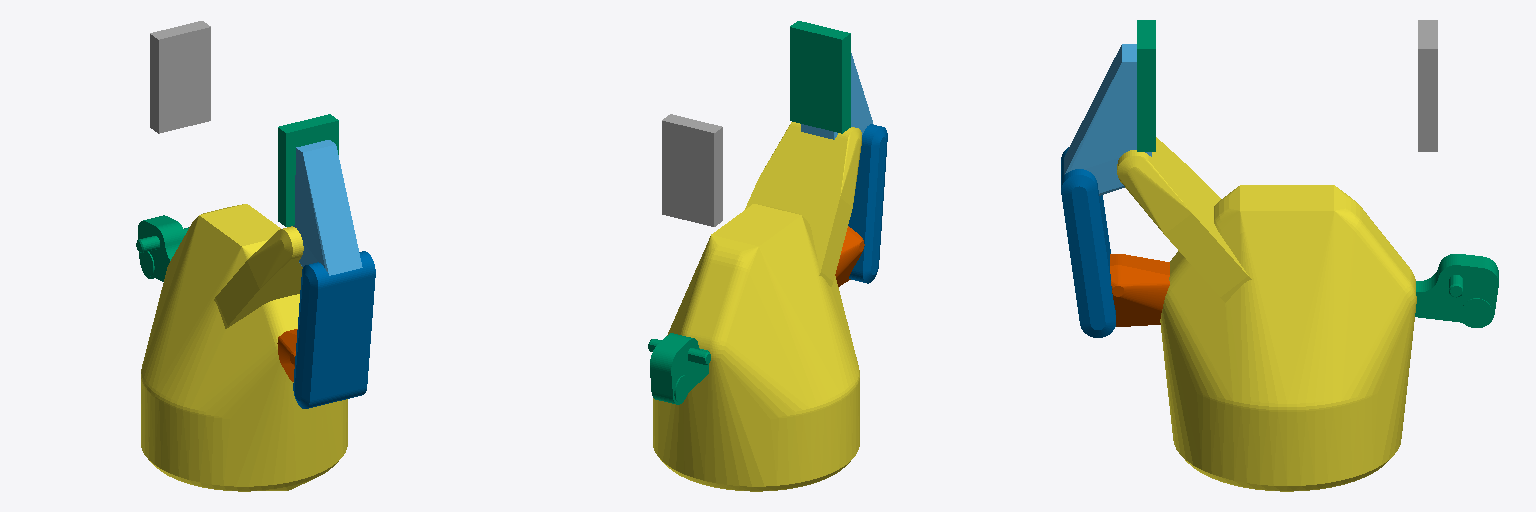
robot.urdf — Robotiq_2F_85:
<?xml version="1.0" encoding="UTF-8"?>
<robot name="Robotiq_2F_85">
  <joint name="finger_joint" type="revolute">
    <origin xyz="0. -0.0306011 0.054904 " rpy="0. 0. -3.1415925"/>
    <parent link="robotiq_arg2f_base_link"/>
    <child link="left_outer_knuckle"/>
    <axis xyz="1. 0. 0."/>
    <limit lower="0." upper="0.7999999" effort="60000." velocity="2."/>
  </joint>
  <joint name="left_inner_finger_joint" type="revolute">
    <origin xyz="0. 0.0061 0.0471" rpy="0. 0. 0."/>
    <parent link="left_outer_finger"/>
    <child link="left_inner_finger"/>
    <axis xyz="1. 0. 0."/>
    <limit lower="0." upper="0.8757" effort="60000." velocity="2."/>
  </joint>
  <joint name="left_inner_finger_pad_joint" type="fixed">
    <origin xyz="0. -0.0220203 0.03242 " rpy="0. -1.5707963 0. "/>
    <parent link="left_inner_finger"/>
    <child link="left_inner_finger_pad"/>
  </joint>
  <joint name="left_inner_knuckle_joint" type="revolute">
    <origin xyz="0. -0.0127 0.06142" rpy="0. 0. -3.1415925"/>
    <parent link="robotiq_arg2f_base_link"/>
    <child link="left_inner_knuckle"/>
    <axis xyz="1. 0. 0."/>
    <limit lower="0." upper="0.8757" effort="60000." velocity="2."/>
  </joint>
  <joint name="left_outer_finger_joint" type="fixed">
    <origin xyz="0. 0.0315 -0.0041" rpy="0. 0. 0."/>
    <parent link="left_outer_knuckle"/>
    <child link="left_outer_finger"/>
  </joint>
  <joint name="right_inner_finger_joint" type="revolute">
    <origin xyz="0. 0.0061 0.0471" rpy="0. 0. 0."/>
    <parent link="right_outer_finger"/>
    <child link="right_inner_finger"/>
    <axis xyz="1. 0. 0."/>
    <limit lower="0." upper="0.8757" effort="60000." velocity="2."/>
  </joint>
  <joint name="right_inner_finger_pad_joint" type="fixed">
    <origin xyz="0. -0.0220203 0.03242 " rpy="0. -1.5707963 0. "/>
    <parent link="right_inner_finger"/>
    <child link="right_inner_finger_pad"/>
  </joint>
  <joint name="right_inner_knuckle_joint" type="revolute">
    <origin xyz="0. 0.0127 0.06142" rpy="0. 0. 0."/>
    <parent link="robotiq_arg2f_base_link"/>
    <child link="right_inner_knuckle"/>
    <axis xyz="1. 0. 0."/>
    <limit lower="0." upper="0.8757" effort="60000." velocity="2."/>
  </joint>
  <joint name="right_outer_finger_joint" type="fixed">
    <origin xyz="0. 0.0315 -0.0041" rpy="0. 0. 0."/>
    <parent link="right_outer_knuckle"/>
    <child link="right_outer_finger"/>
  </joint>
  <joint name="right_outer_knuckle_joint" type="revolute">
    <origin xyz="0. 0.0306011 0.054904 " rpy="0. 0. 0."/>
    <parent link="robotiq_arg2f_base_link"/>
    <child link="right_outer_knuckle"/>
    <axis xyz="1. 0. 0."/>
    <limit lower="0." upper="0.81" effort="60000." velocity="2."/>
  </joint>
  <joint name="root_joint" type="fixed">
    <origin xyz="0. 0. 0." rpy="0. 0. 0."/>
    <parent link="Root"/>
    <child link="robotiq_arg2f_base_link"/>
  </joint>
  <link name="Root"/>
  <link name="left_inner_finger">
    <visual>
      <origin xyz="0. 0. 0." rpy="0. 0. 0."/>
      <geometry>
        <mesh filename="meshes/left_inner_finger_visuals_mesh_0.obj" scale="0.001 0.001 0.001"/>
      </geometry>
    </visual>
    <visual>
      <origin xyz="0. 0. 0." rpy="0. 0. 0."/>
      <geometry>
        <mesh filename="meshes/left_inner_finger_collisions_mesh_0.obj" scale="0.001 0.001 0.001"/>
      </geometry>
    </visual>
    <collision>
      <origin xyz="0. 0. 0." rpy="0. 0. 0."/>
      <geometry>
        <mesh filename="meshes/left_inner_finger_collisions_mesh_0.obj" scale="0.001 0.001 0.001"/>
      </geometry>
    </collision>
  </link>
  <link name="left_inner_finger_pad">
    <visual>
      <origin xyz="0. 0. 0." rpy="0. 1.5707963 0. "/>
      <geometry>
        <box size="0.022 0.00635 0.0375 "/>
      </geometry>
    </visual>
    <collision>
      <origin xyz="0. 0. 0." rpy="0. 1.5707963 0. "/>
      <geometry>
        <box size="0.022 0.00635 0.0375 "/>
      </geometry>
    </collision>
  </link>
  <link name="left_inner_knuckle">
    <visual>
      <origin xyz="0. 0. 0." rpy="0. 0. 0."/>
      <geometry>
        <mesh filename="meshes/left_inner_knuckle_visuals_mesh_0.obj" scale="0.001 0.001 0.001"/>
      </geometry>
    </visual>
    <visual>
      <origin xyz="0. 0. 0." rpy="0. 0. 0."/>
      <geometry>
        <mesh filename="meshes/left_inner_knuckle_collisions_mesh_0.obj" scale="0.001 0.001 0.001"/>
      </geometry>
    </visual>
    <collision>
      <origin xyz="0. 0. 0." rpy="0. 0. 0."/>
      <geometry>
        <mesh filename="meshes/left_inner_knuckle_collisions_mesh_0.obj" scale="0.001 0.001 0.001"/>
      </geometry>
    </collision>
  </link>
  <link name="left_outer_finger">
    <visual>
      <origin xyz="0. 0. 0." rpy="0. 0. 0."/>
      <geometry>
        <mesh filename="meshes/left_outer_finger_visuals_mesh_0.obj" scale="0.001 0.001 0.001"/>
      </geometry>
    </visual>
    <visual>
      <origin xyz="0. 0. 0." rpy="0. 0. 0."/>
      <geometry>
        <mesh filename="meshes/left_outer_finger_collisions_mesh_0.obj" scale="0.001 0.001 0.001"/>
      </geometry>
    </visual>
    <collision>
      <origin xyz="0. 0. 0." rpy="0. 0. 0."/>
      <geometry>
        <mesh filename="meshes/left_outer_finger_collisions_mesh_0.obj" scale="0.001 0.001 0.001"/>
      </geometry>
    </collision>
  </link>
  <link name="left_outer_knuckle">
    <visual>
      <origin xyz="0. 0. 0." rpy="0. 0. 0."/>
      <geometry>
        <mesh filename="meshes/left_outer_knuckle_visuals_mesh_0.obj" scale="0.001 0.001 0.001"/>
      </geometry>
    </visual>
    <visual>
      <origin xyz="0. 0. 0." rpy="0. 0. 0."/>
      <geometry>
        <mesh filename="meshes/left_outer_knuckle_collisions_mesh_0.obj" scale="0.001 0.001 0.001"/>
      </geometry>
    </visual>
    <collision>
      <origin xyz="0. 0. 0." rpy="0. 0. 0."/>
      <geometry>
        <mesh filename="meshes/left_outer_knuckle_collisions_mesh_0.obj" scale="0.001 0.001 0.001"/>
      </geometry>
    </collision>
  </link>
  <link name="right_inner_finger">
    <visual>
      <origin xyz="0. 0. 0." rpy="0. 0. 0."/>
      <geometry>
        <mesh filename="meshes/right_inner_finger_visuals_mesh_0.obj" scale="0.001 0.001 0.001"/>
      </geometry>
    </visual>
    <visual>
      <origin xyz="0. 0. 0." rpy="0. 0. 0."/>
      <geometry>
        <mesh filename="meshes/right_inner_finger_collisions_mesh_0.obj" scale="0.001 0.001 0.001"/>
      </geometry>
    </visual>
    <collision>
      <origin xyz="0. 0. 0." rpy="0. 0. 0."/>
      <geometry>
        <mesh filename="meshes/right_inner_finger_collisions_mesh_0.obj" scale="0.001 0.001 0.001"/>
      </geometry>
    </collision>
  </link>
  <link name="right_inner_finger_pad">
    <visual>
      <origin xyz="0. 0. 0." rpy="0. 1.5707963 0. "/>
      <geometry>
        <box size="0.022 0.00635 0.0375 "/>
      </geometry>
    </visual>
    <collision>
      <origin xyz="0. 0. 0." rpy="0. 1.5707963 0. "/>
      <geometry>
        <box size="0.022 0.00635 0.0375 "/>
      </geometry>
    </collision>
  </link>
  <link name="right_inner_knuckle">
    <visual>
      <origin xyz="0. 0. 0." rpy="0. 0. 0."/>
      <geometry>
        <mesh filename="meshes/right_inner_knuckle_visuals_mesh_0.obj" scale="0.001 0.001 0.001"/>
      </geometry>
    </visual>
    <visual>
      <origin xyz="0. 0. 0." rpy="0. 0. 0."/>
      <geometry>
        <mesh filename="meshes/right_inner_knuckle_collisions_mesh_0.obj" scale="0.001 0.001 0.001"/>
      </geometry>
    </visual>
    <collision>
      <origin xyz="0. 0. 0." rpy="0. 0. 0."/>
      <geometry>
        <mesh filename="meshes/right_inner_knuckle_collisions_mesh_0.obj" scale="0.001 0.001 0.001"/>
      </geometry>
    </collision>
  </link>
  <link name="right_outer_finger">
    <visual>
      <origin xyz="0. 0. 0." rpy="0. 0. 0."/>
      <geometry>
        <mesh filename="meshes/right_outer_finger_visuals_mesh_0.obj" scale="0.001 0.001 0.001"/>
      </geometry>
    </visual>
    <visual>
      <origin xyz="0. 0. 0." rpy="0. 0. 0."/>
      <geometry>
        <mesh filename="meshes/right_outer_finger_collisions_mesh_0.obj" scale="0.001 0.001 0.001"/>
      </geometry>
    </visual>
    <collision>
      <origin xyz="0. 0. 0." rpy="0. 0. 0."/>
      <geometry>
        <mesh filename="meshes/right_outer_finger_collisions_mesh_0.obj" scale="0.001 0.001 0.001"/>
      </geometry>
    </collision>
  </link>
  <link name="right_outer_knuckle">
    <visual>
      <origin xyz="0. 0. 0." rpy="0. 0. 0."/>
      <geometry>
        <mesh filename="meshes/right_outer_knuckle_visuals_mesh_0.obj" scale="0.001 0.001 0.001"/>
      </geometry>
    </visual>
    <visual>
      <origin xyz="0. 0. 0." rpy="0. 0. 0."/>
      <geometry>
        <mesh filename="meshes/right_outer_knuckle_collisions_mesh_0.obj" scale="0.001 0.001 0.001"/>
      </geometry>
    </visual>
    <collision>
      <origin xyz="0. 0. 0." rpy="0. 0. 0."/>
      <geometry>
        <mesh filename="meshes/right_outer_knuckle_collisions_mesh_0.obj" scale="0.001 0.001 0.001"/>
      </geometry>
    </collision>
  </link>
  <link name="robotiq_arg2f_base_link">
    <inertial>
      <origin xyz="0. 0. 0." rpy="0. 0. 0."/>
      <mass value="0.22652"/>
      <inertia ixx="0." ixy="0." ixz="0." iyy="0." iyz="0." izz="0."/>
    </inertial>
    <visual>
      <origin xyz="0. 0. 0." rpy="0. 0. 0."/>
      <geometry>
        <mesh filename="meshes/robotiq_arg2f_base_link_visuals_mesh_0.obj" scale="0.001 0.001 0.001"/>
      </geometry>
    </visual>
    <visual>
      <origin xyz="0. 0. 0." rpy="0. 0. 0."/>
      <geometry>
        <mesh filename="meshes/robotiq_arg2f_base_link_collisions_mesh_0.obj" scale="1. 1. 1."/>
      </geometry>
    </visual>
    <collision>
      <origin xyz="0. 0. 0." rpy="0. 0. 0."/>
      <geometry>
        <mesh filename="meshes/robotiq_arg2f_base_link_collisions_mesh_0.obj" scale="1. 1. 1."/>
      </geometry>
    </collision>
  </link>
</robot>

--- Facts derived from the render (not from the file) ---
3 views of the same robot in one strip: view 1: azimuth 30°, elevation 25°; view 2: azimuth 150°, elevation 25°; view 3: azimuth 270°, elevation 25° (orthographic).
Model Robotiq_2F_85 with 12 links and 11 joints (6 revolute, 5 fixed), rooted at Root, posed every joint at zero.
Visible links, largest first — view 1: robotiq_arg2f_base_link, left_outer_finger, left_inner_finger, right_inner_finger_pad, left_inner_knuckle, left_inner_finger_pad, right_outer_knuckle, left_outer_knuckle; view 2: robotiq_arg2f_base_link, left_inner_knuckle, right_inner_finger_pad, left_inner_finger_pad, left_outer_finger, right_outer_knuckle, left_inner_finger, left_outer_knuckle; view 3: robotiq_arg2f_base_link, left_inner_knuckle, left_outer_finger, left_inner_finger, right_outer_knuckle, left_outer_knuckle, right_inner_finger_pad, left_inner_finger_pad.
Link boxes in pixels (left/top/right/bottom): robotiq_arg2f_base_link: left=141, top=204, right=347, bottom=491; left_outer_finger: left=293, top=251, right=375, bottom=408; left_inner_finger: left=290, top=140, right=362, bottom=275; right_inner_finger_pad: left=150, top=21, right=210, bottom=133; left_inner_knuckle: left=214, top=226, right=303, bottom=328; left_inner_finger_pad: left=278, top=114, right=338, bottom=226; right_outer_knuckle: left=136, top=215, right=188, bottom=281; left_outer_knuckle: left=277, top=329, right=297, bottom=381; robotiq_arg2f_base_link: left=653, top=204, right=859, bottom=491; left_inner_knuckle: left=745, top=122, right=861, bottom=286; right_inner_finger_pad: left=662, top=114, right=722, bottom=226; left_inner_finger_pad: left=790, top=21, right=850, bottom=133; left_outer_finger: left=848, top=124, right=887, bottom=283; right_outer_knuckle: left=648, top=333, right=710, bottom=404; left_inner_finger: left=801, top=53, right=873, bottom=139; left_outer_knuckle: left=835, top=226, right=864, bottom=286; robotiq_arg2f_base_link: left=1160, top=185, right=1416, bottom=491; left_inner_knuckle: left=1117, top=137, right=1251, bottom=302; left_outer_finger: left=1061, top=147, right=1115, bottom=337; left_inner_finger: left=1064, top=44, right=1151, bottom=195; right_outer_knuckle: left=1415, top=254, right=1498, bottom=327; left_outer_knuckle: left=1110, top=254, right=1169, bottom=326; right_inner_finger_pad: left=1418, top=20, right=1437, bottom=151; left_inner_finger_pad: left=1137, top=20, right=1155, bottom=151.
Bounding box of the posed robot: 0.075 × 0.1436 × 0.1518 m (x, y, z).
9 mesh visuals loaded from 18 distinct referenced files (9 OBJ); not drawn: 9 (reference not matched to a file when rendering).
